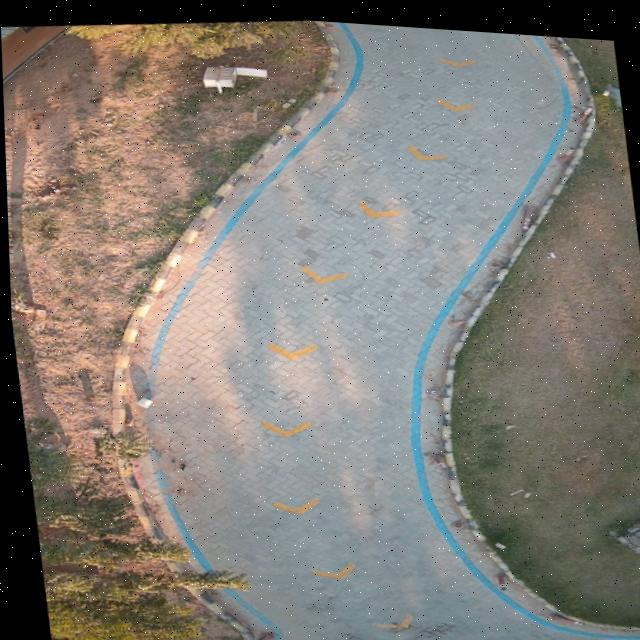No Car: (1, 16, 640, 640)
